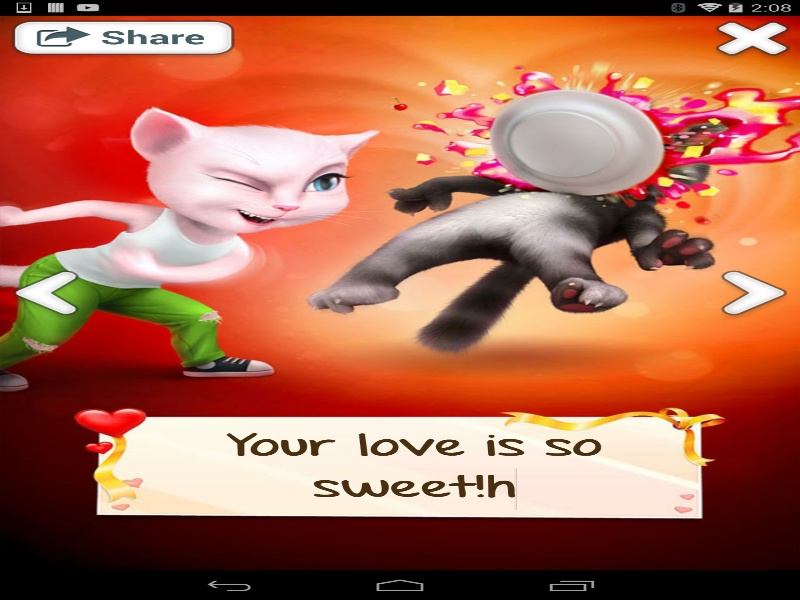Input: (145, 427, 682, 510)
